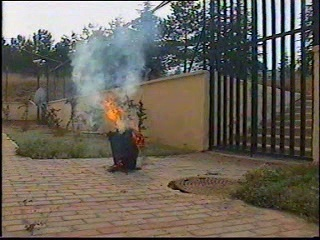smoke: (69, 6, 157, 120)
